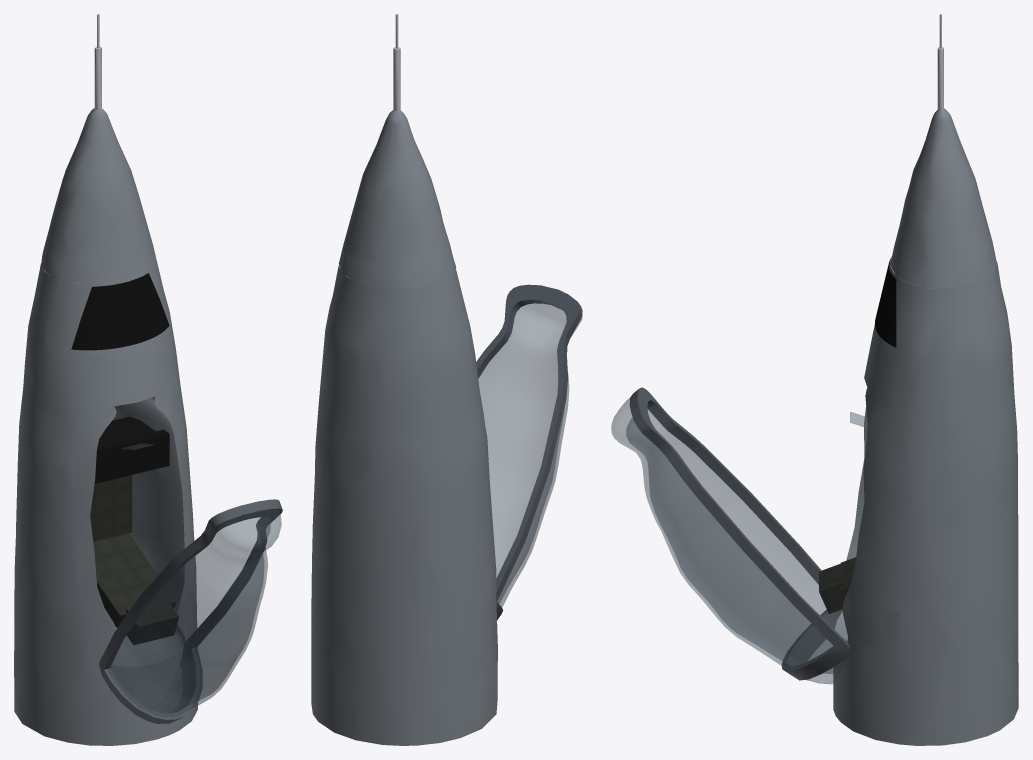
The model's file is cockpit00_fighter_canopy_open.glb.
The picture shows the model from 3 angles, left to right: view 1: azimuth 30°, elevation 25°; view 2: azimuth 150°, elevation 25°; view 3: azimuth 270°, elevation 25°; orthographic projection.
Visible parts, largest first — view 1: fuselage, canopy_glass, radome, ejection_seat, canopy_frame, antiglare_panel, instrument_panel, pitot_probe; view 2: fuselage, canopy_glass, radome, canopy_frame, pitot_probe; view 3: fuselage, canopy_glass, radome, canopy_frame, ejection_seat, antiglare_panel.
Boxes of the visible parts, x1,y1,x2,y2 form: fuselage: (14,255,197,745); canopy_glass: (107,508,281,717); radome: (41,108,155,283); ejection_seat: (90,475,178,644); canopy_frame: (99,499,282,723); antiglare_panel: (71,273,169,350); instrument_panel: (94,416,169,483); pitot_probe: (94,14,101,110); fuselage: (311,265,497,745); canopy_glass: (477,285,582,607); radome: (338,110,456,289); canopy_frame: (476,284,582,619); pitot_probe: (393,14,400,110); fuselage: (833,256,1018,745); canopy_glass: (611,389,847,684); radome: (890,108,997,288); canopy_frame: (629,387,850,680); ejection_seat: (819,557,856,613); antiglare_panel: (874,259,896,347).
Bounding box in the file's own units: 1.25 × 5.15 × 2.75.
Materials: 8 (2 with a texture image).
